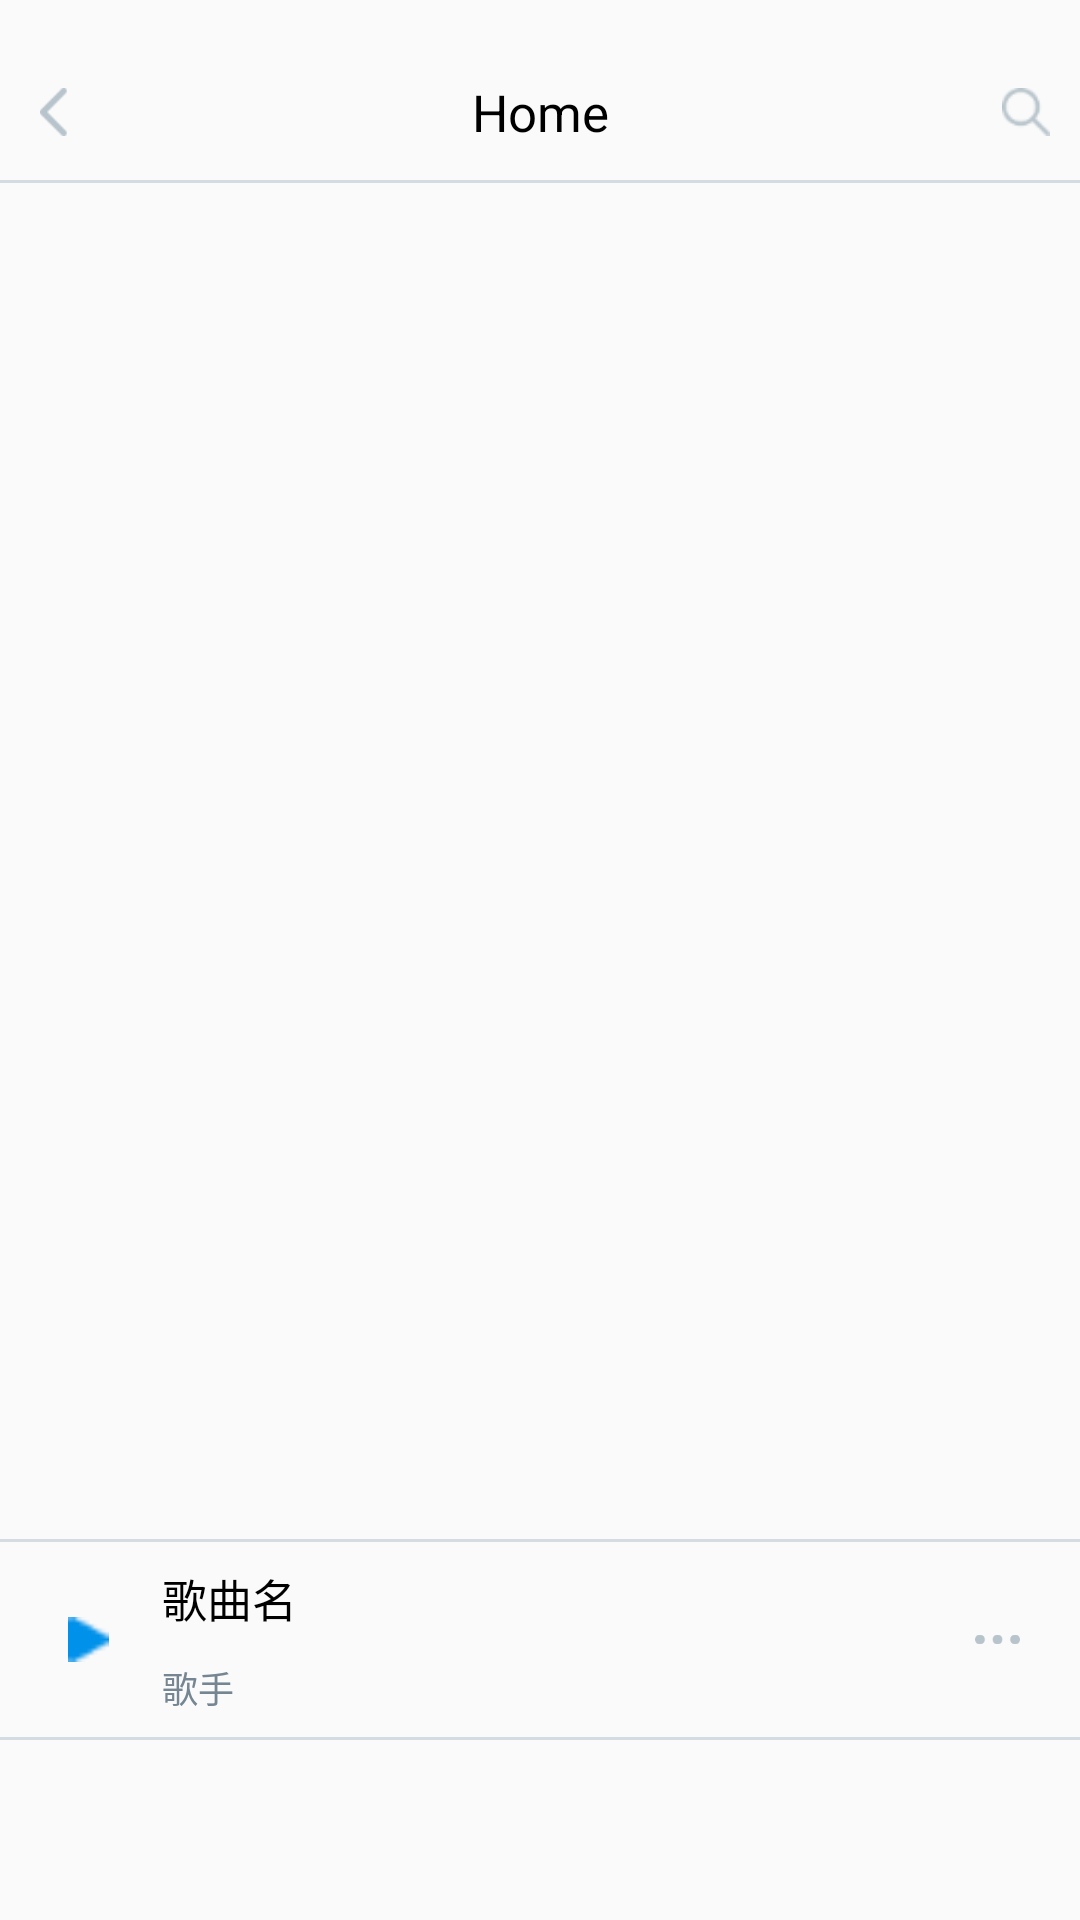

Icons on this 1080w x 1920h Android screen, each with its box as (x1, y1, x2, y2):
arrow: (40, 88, 67, 136)
playblue: (68, 1617, 109, 1662)
search: (1002, 88, 1050, 136)
